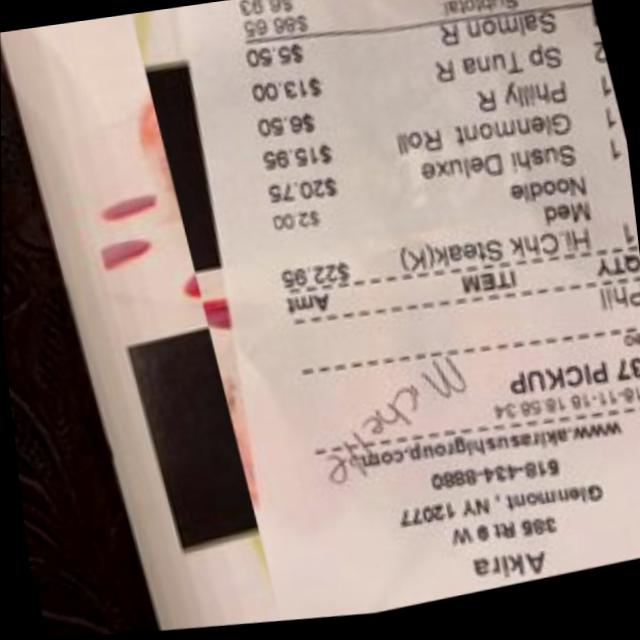Paper: (161, 0, 640, 635)
